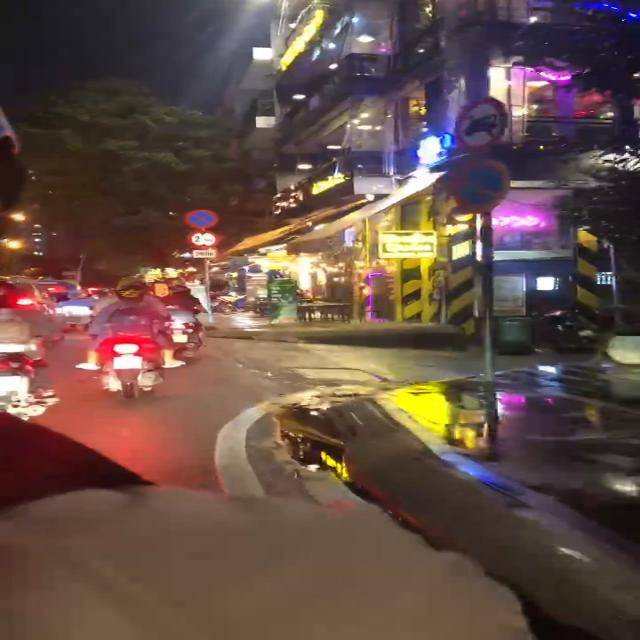Bien bao cam dung xe va do xe: (183, 208, 223, 230)
Bien bao han che chieu cao: (186, 229, 224, 248)
